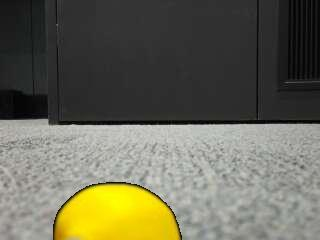lemon: (57, 185, 182, 240)
